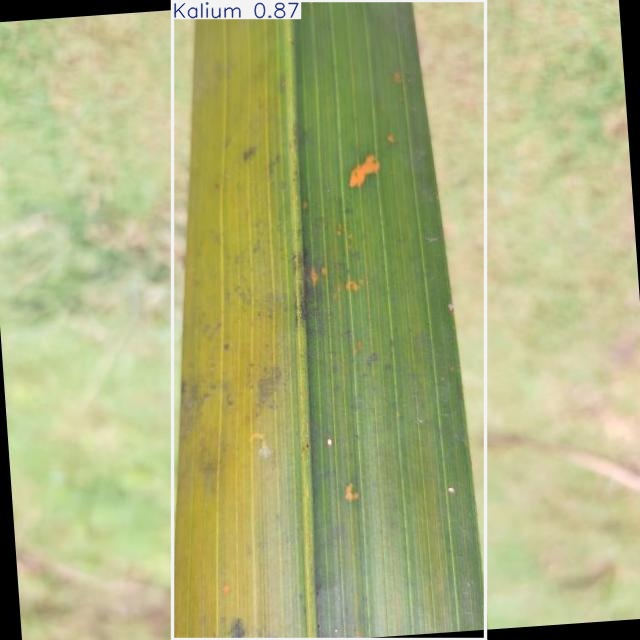Kalium: (173, 1, 485, 639)
